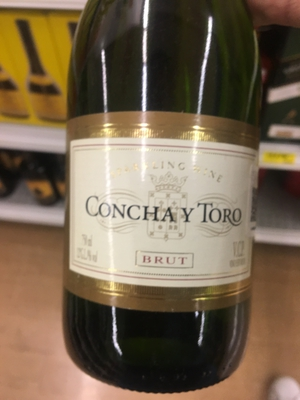brut: (65, 29, 258, 374)
